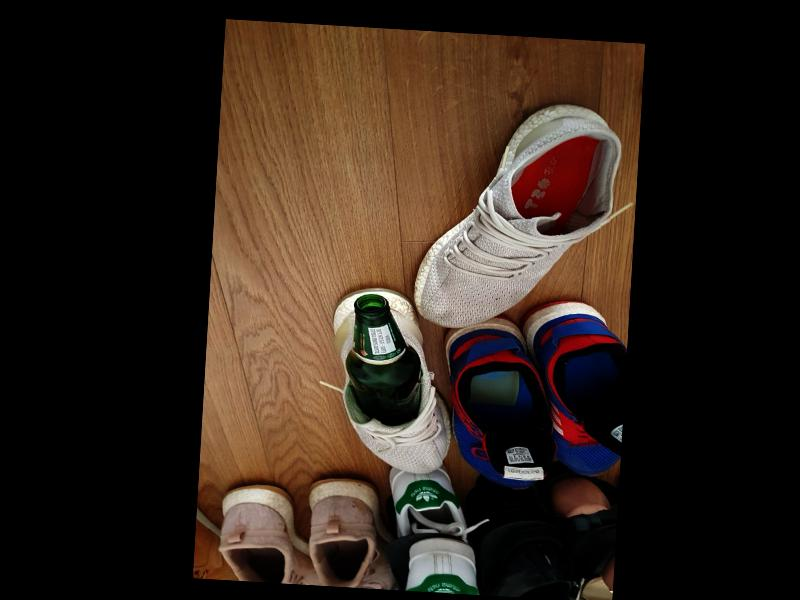Beer: (342, 292, 428, 426)
